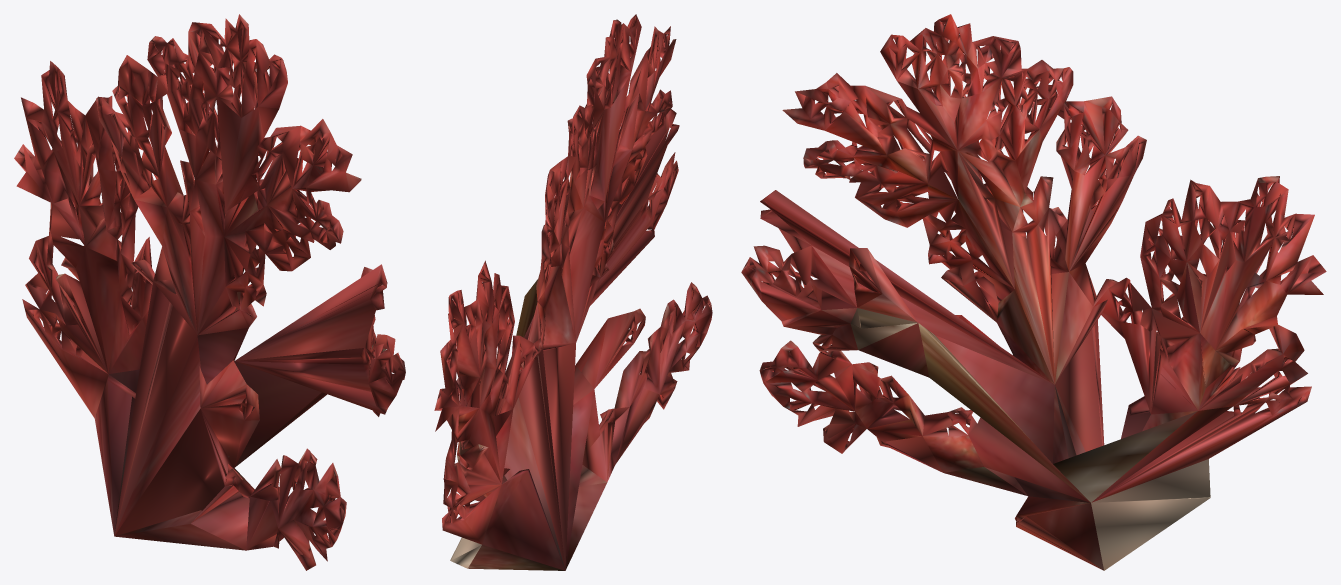
File: coral.glb
The picture shows the model from 3 angles, left to right: view 1: azimuth 30°, elevation 25°; view 2: azimuth 150°, elevation 25°; view 3: azimuth 270°, elevation 25°; orthographic projection. The views are drawn at different scales.
Visible parts, largest first — view 1: tripo_node_cf09869a-b11e-471b-a1ab-299934a6fc06; view 2: tripo_node_cf09869a-b11e-471b-a1ab-299934a6fc06; view 3: tripo_node_cf09869a-b11e-471b-a1ab-299934a6fc06.
Boxes of the visible parts, box(x1,y1,x2,y2) form: tripo_node_cf09869a-b11e-471b-a1ab-299934a6fc06: box(14, 14, 405, 570); tripo_node_cf09869a-b11e-471b-a1ab-299934a6fc06: box(434, 14, 712, 570); tripo_node_cf09869a-b11e-471b-a1ab-299934a6fc06: box(741, 14, 1326, 570).
Size of the model in its own units: 0.2401 by 0.9186 by 0.9342.
1 material, 1 textured.
